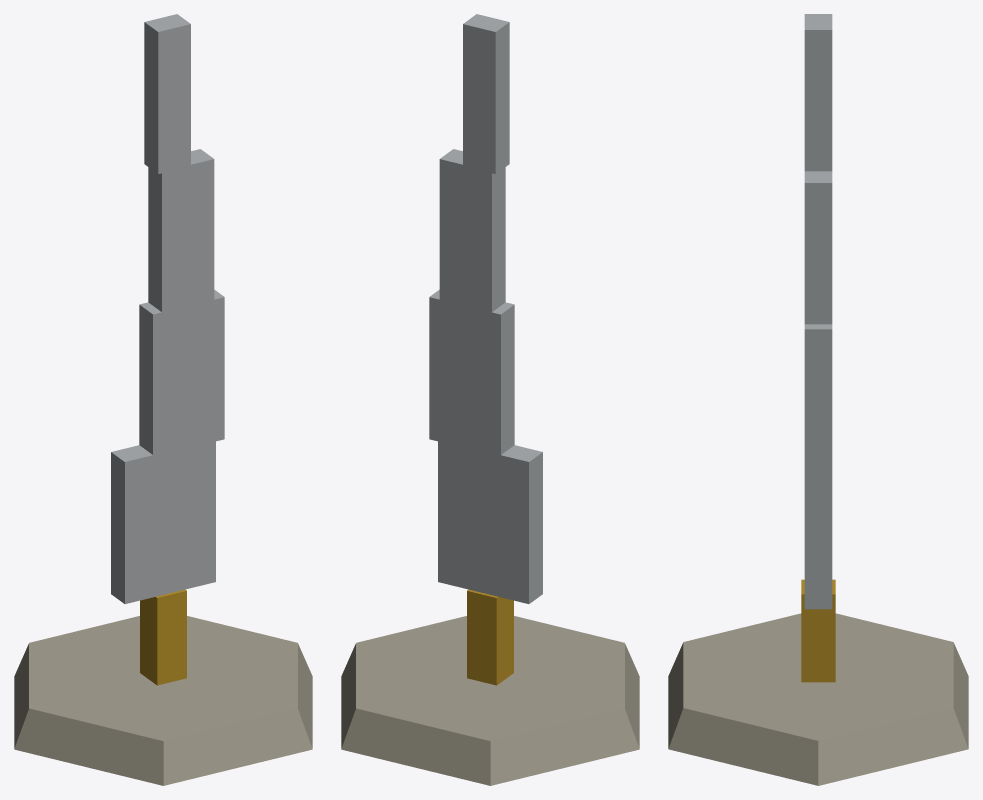
The model's file is tugu-keris-lod2.glb.
3 views of the same model, side by side, from view 1: azimuth 30°, elevation 25°; view 2: azimuth 150°, elevation 25°; view 3: azimuth 270°, elevation 25° (orthographic).
Visible parts, largest first — view 1: tugu-keris_LOD2; view 2: tugu-keris_LOD2; view 3: tugu-keris_LOD2.
Part boxes in pixels (x1,y1,x2,y2): tugu-keris_LOD2: [14, 14, 312, 785]; tugu-keris_LOD2: [341, 14, 639, 785]; tugu-keris_LOD2: [668, 14, 968, 785].
Size of the model in its own units: 10 by 22.05 by 8.66.
